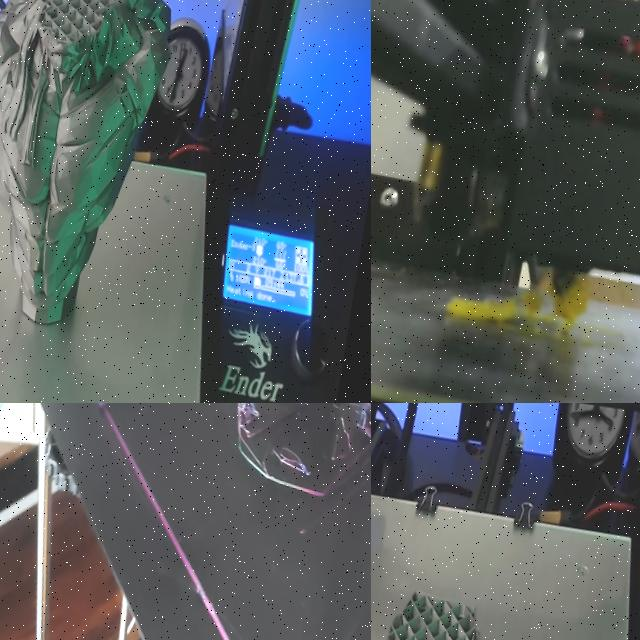spaghetti: (447, 268, 588, 332), (75, 403, 211, 451), (288, 403, 371, 463), (267, 433, 320, 493), (210, 403, 270, 447)
